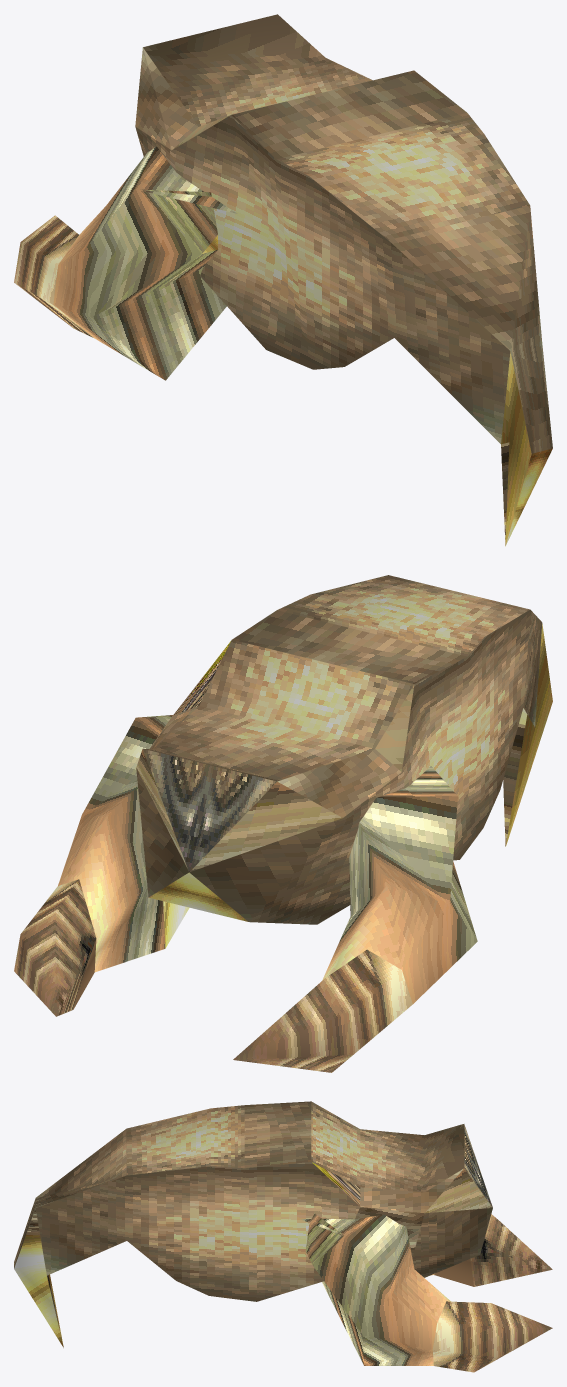
The model's file is mbot_cmp.gltf.
The picture shows the model from 3 angles, top to bottom: view 1: azimuth 30°, elevation 25°; view 2: azimuth 150°, elevation 25°; view 3: azimuth 270°, elevation 25°; orthographic projection. The views are drawn at different scales.
Parts seen in each view (by area): view 1: Root, rightarm; view 2: Root, rightarm, leftarm; view 3: Root, leftarm, rightarm.
Part boxes in pixels (x1,y1,x2,y2): Root: [135, 14, 552, 546]; rightarm: [14, 146, 237, 380]; Root: [136, 575, 552, 924]; rightarm: [233, 766, 477, 1072]; leftarm: [14, 715, 189, 1016]; Root: [14, 1101, 492, 1347]; leftarm: [301, 1213, 552, 1372]; rightarm: [430, 1214, 552, 1286].
Size of the model in its own units: 2.58 by 2.05 by 4.61.
7 materials, 7 textured.
